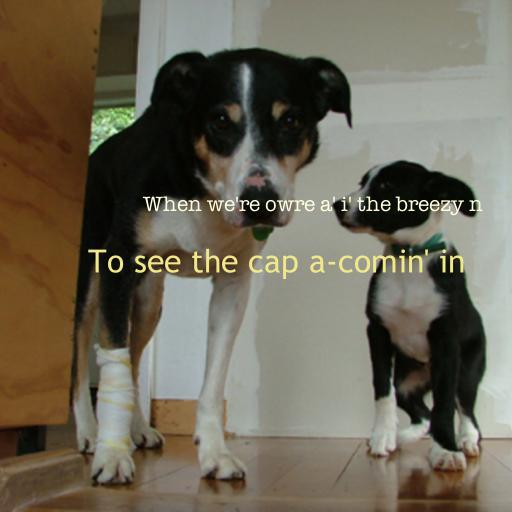American Typewriter: (143, 196, 483, 216)
Trebuchet MS: (87, 248, 465, 280)
